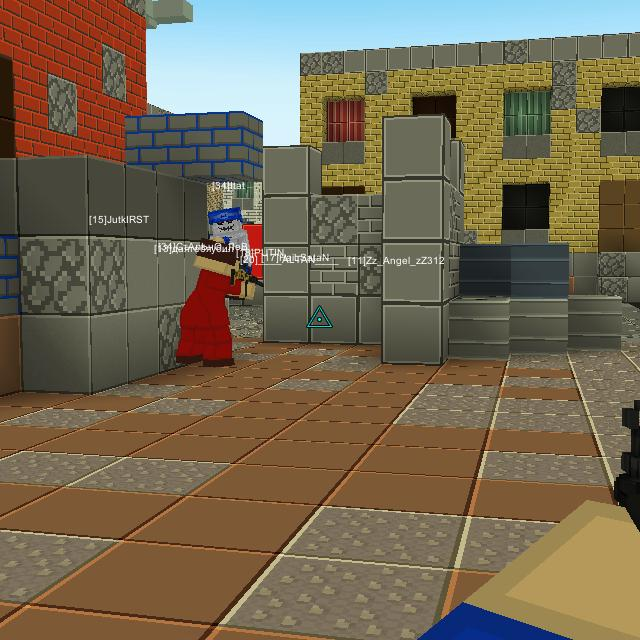enemy: (174, 237, 257, 368)
